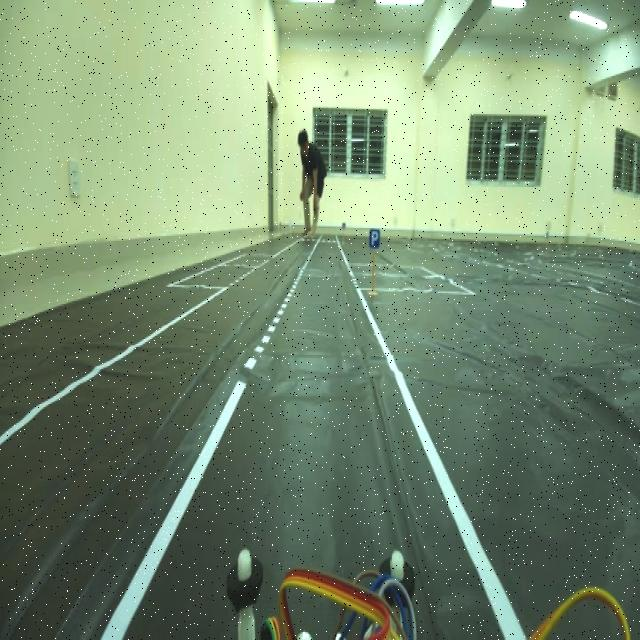parking: (364, 217, 380, 252)
